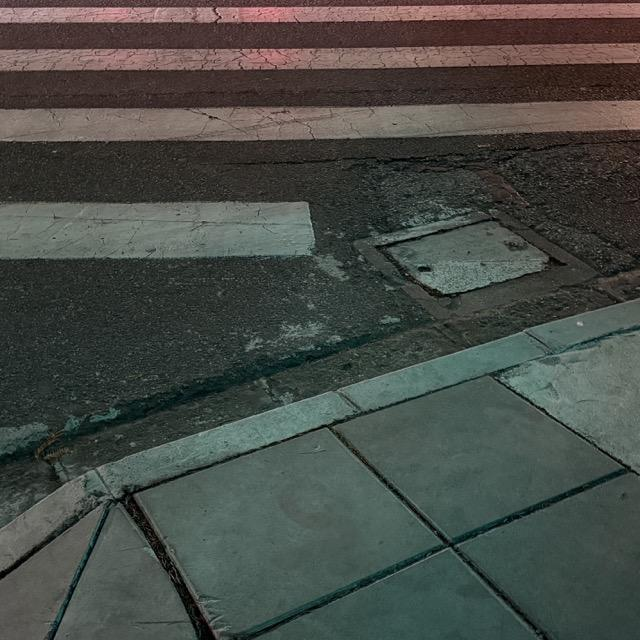curb: (0, 300, 639, 571)
